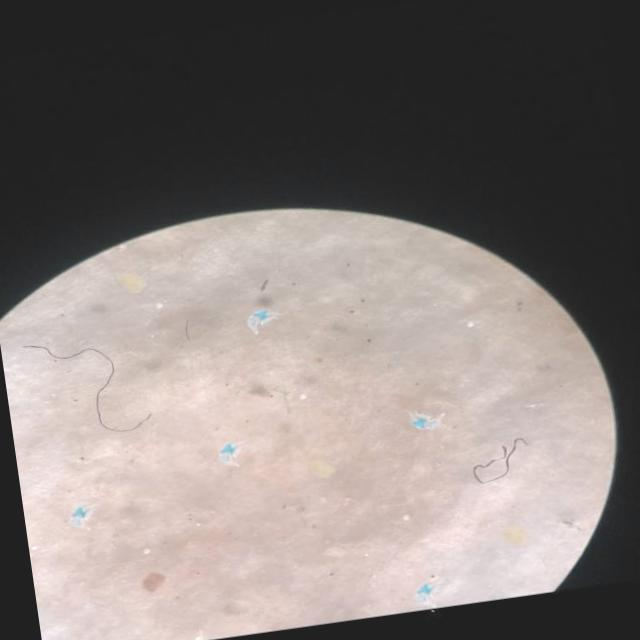fiber: (24, 345, 151, 432), (473, 438, 528, 483)
film: (249, 307, 279, 327), (411, 413, 444, 429), (422, 576, 440, 601), (228, 442, 242, 466), (72, 510, 89, 526)
fragment: (120, 273, 145, 292), (309, 460, 334, 478), (143, 573, 166, 592), (506, 526, 527, 544)
pellet: (300, 393, 307, 399), (468, 321, 475, 327), (156, 302, 163, 308), (144, 548, 151, 554), (404, 515, 409, 520)
